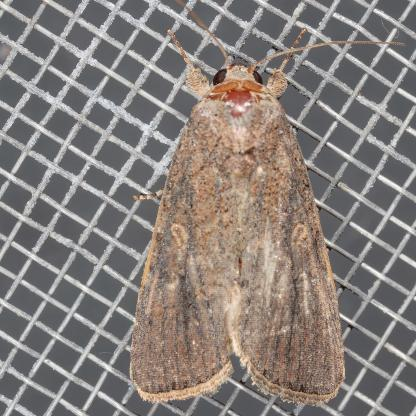Fall Armyworm Moth: (125, 0, 411, 410)
